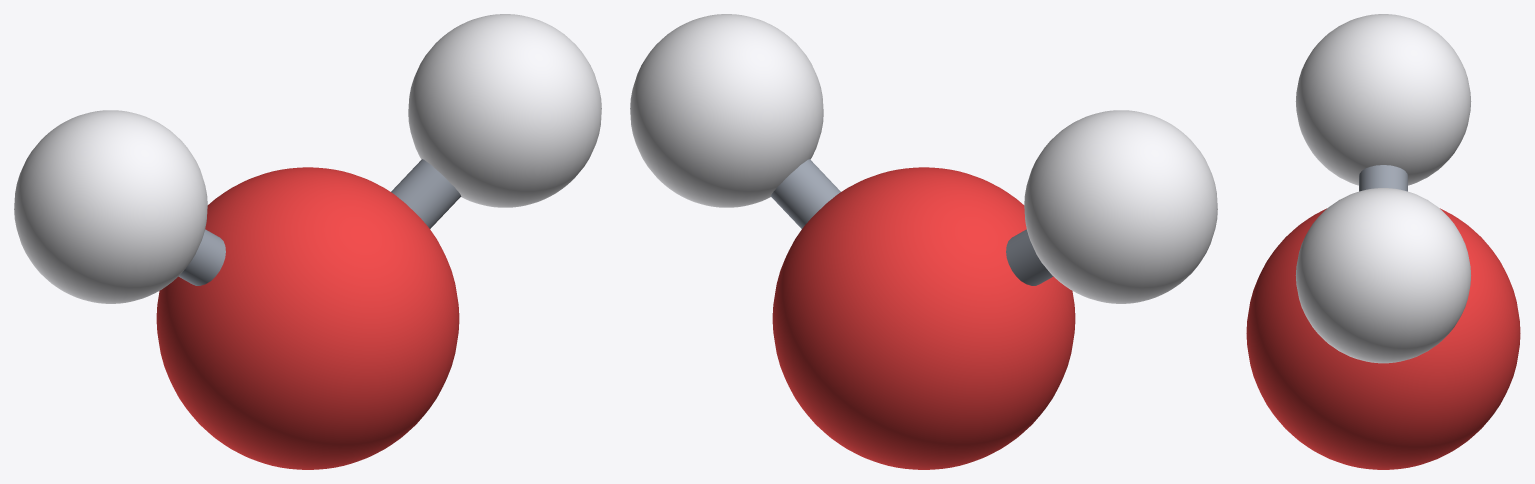
Rendered from water.glb.
3 views of the same model, side by side, from view 1: azimuth 30°, elevation 25°; view 2: azimuth 150°, elevation 25°; view 3: azimuth 270°, elevation 25° (orthographic). The views are drawn at different scales.
Visible parts, largest first — view 1: O, H2, H1, Bond1, Bond2; view 2: O, H2, H1, Bond1, Bond2; view 3: O, H1, H2, Bond2.
Part boxes in pixels (x1,y1,x2,y2): O: (156,167,459,469); H2: (14,110,207,303); H1: (408,14,601,207); Bond1: (391,159,461,228); Bond2: (178,229,225,285); O: (772,167,1075,469); H2: (1024,110,1217,303); H1: (630,14,823,207); Bond1: (770,159,840,228); Bond2: (1006,229,1053,285); O: (1246,208,1520,469); H1: (1295,188,1471,363); H2: (1295,14,1471,185); Bond2: (1359,165,1407,191).
Size of the model in its own units: 2.14 by 1.4 by 1.
